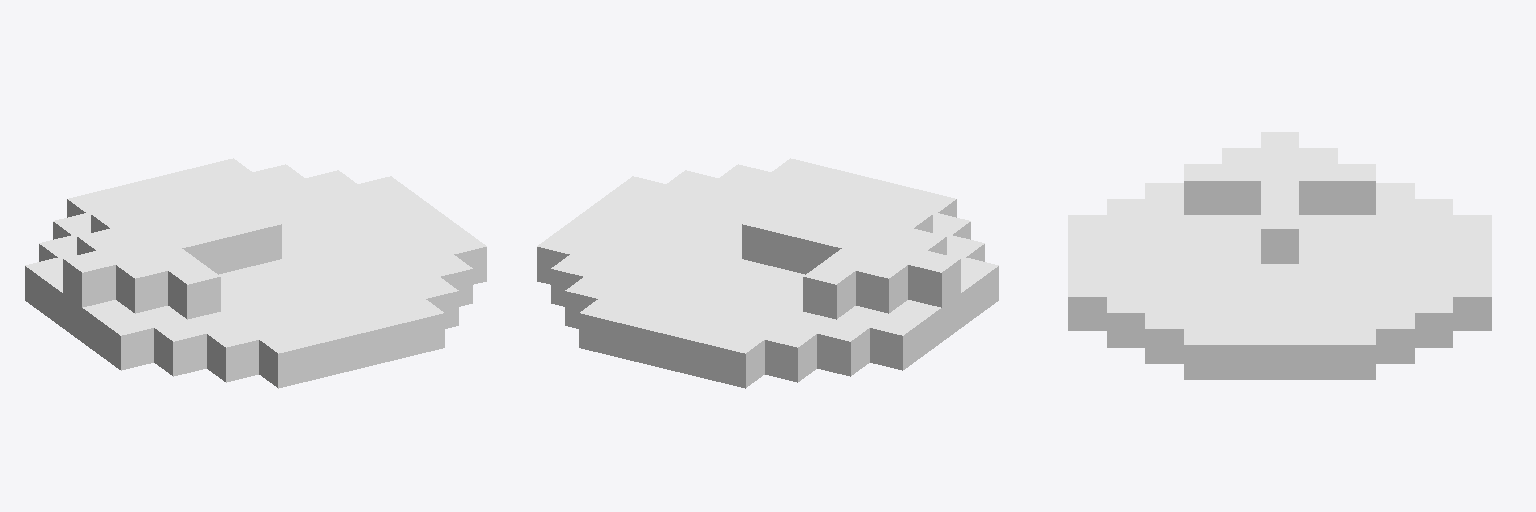
Rendered from kompas2-1.obj.
3 views of the same model, side by side, from view 1: azimuth 30°, elevation 25°; view 2: azimuth 150°, elevation 25°; view 3: azimuth 270°, elevation 25° (orthographic).
Parts seen in each view (by area): view 1: object 1; view 2: object 1; view 3: object 1.
Boxes of the visible parts, <box> form: object 1: <box>25,158,486,388</box>; object 1: <box>537,158,998,388</box>; object 1: <box>1068,132,1491,379</box>.
Size of the model in its own units: 1.1 by 0.2 by 1.1.